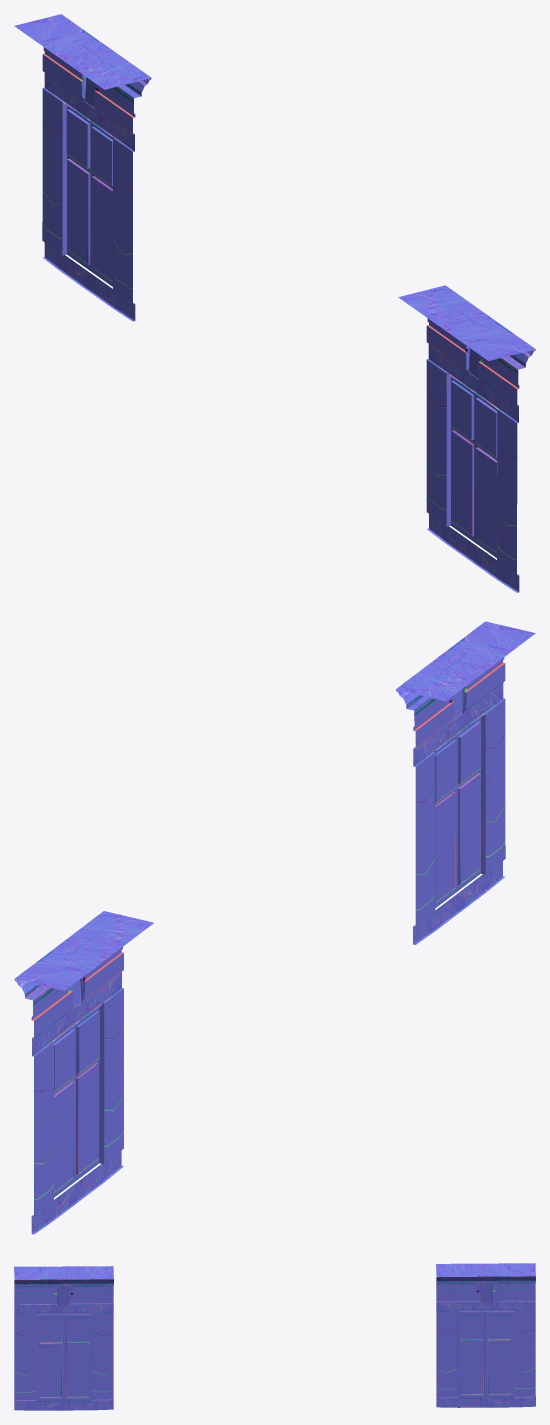
The picture shows the model from 3 angles, top to bottom: view 1: azimuth 30°, elevation 25°; view 2: azimuth 150°, elevation 25°; view 3: azimuth 270°, elevation 25°; orthographic projection. The views are drawn at different scales.
Parts seen in each view (by area): view 1: _2Fwindow_low_001; view 2: _2Fwindow_low_001; view 3: _2Fwindow_low_001.
Part boxes in pixels (left/top/right/bottom): _2Fwindow_low_001: left=14, top=14, right=535, bottom=592; _2Fwindow_low_001: left=14, top=621, right=535, bottom=1234; _2Fwindow_low_001: left=14, top=1263, right=535, bottom=1410.
Bounding box in the file's own units: 108 × 410 × 1432.
